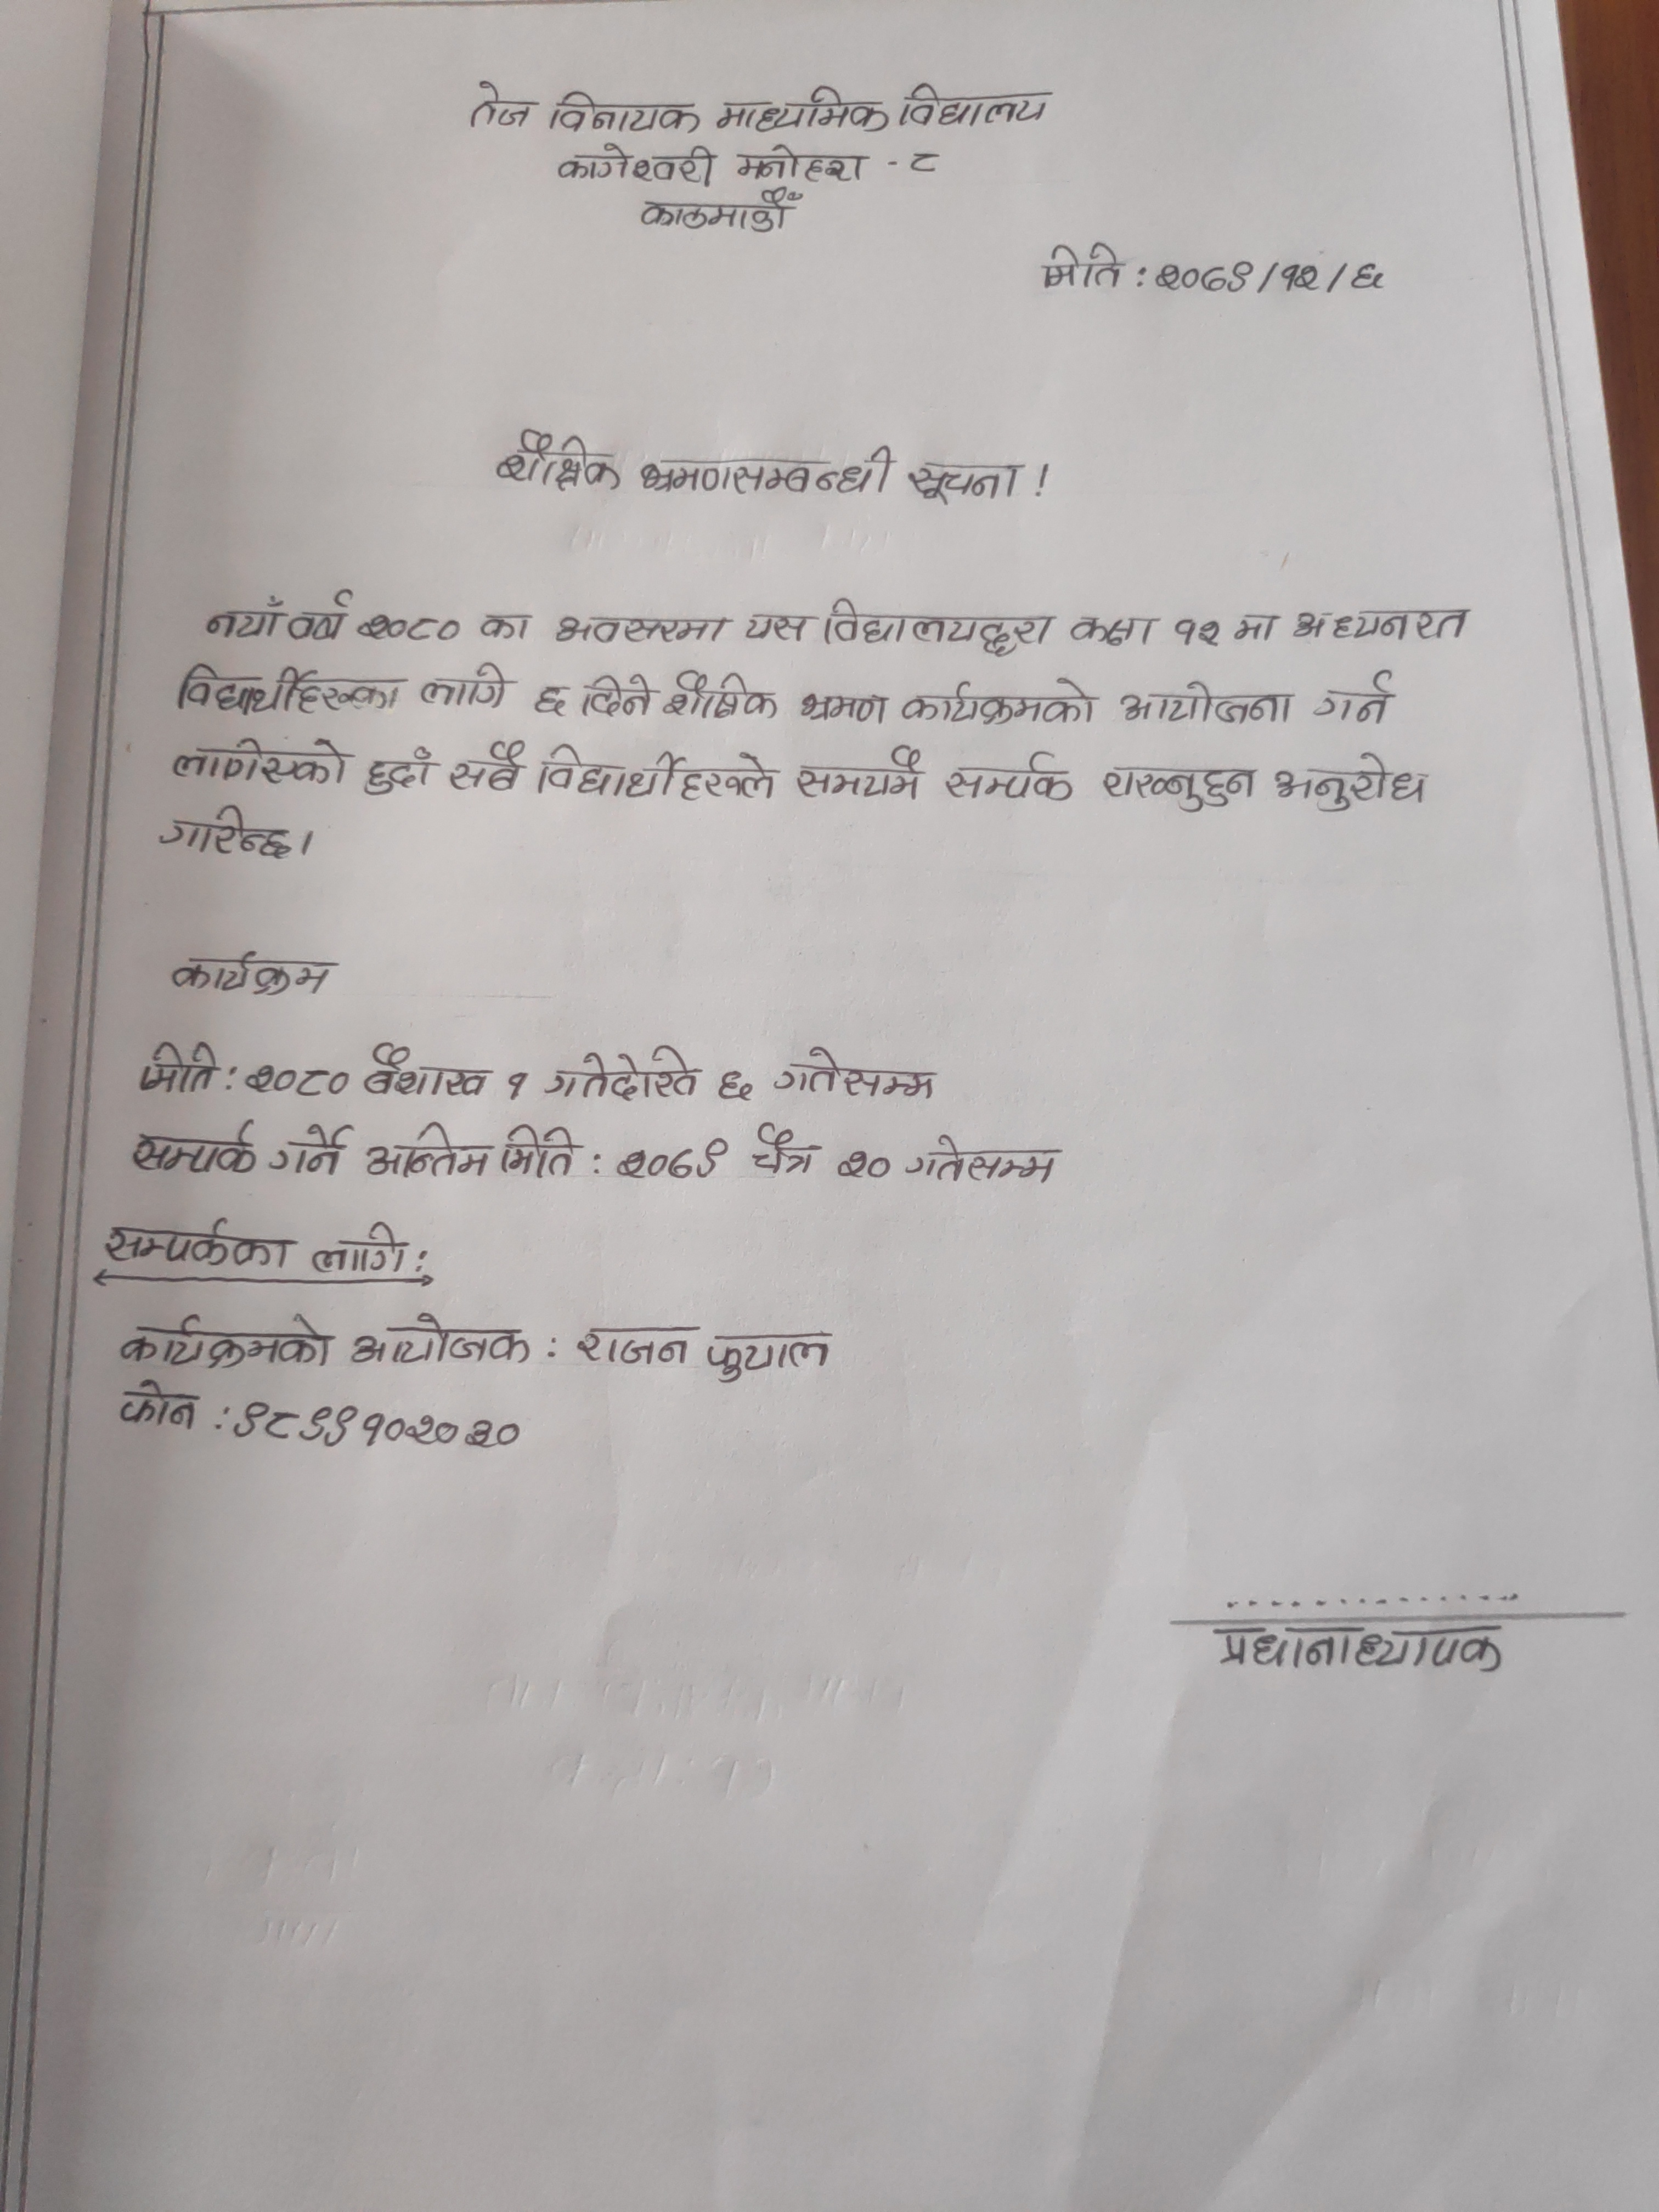text: (1202, 1622, 1509, 1679), (228, 1399, 525, 1458), (537, 740, 781, 810), (636, 441, 901, 502), (173, 658, 410, 719), (113, 1312, 342, 1374), (821, 597, 1056, 657), (96, 1214, 295, 1273), (349, 1308, 538, 1369), (1154, 254, 1391, 301), (1272, 751, 1431, 820), (769, 1042, 945, 1104), (711, 82, 894, 141), (493, 427, 627, 503), (540, 1043, 704, 1106), (171, 735, 354, 791), (896, 676, 1101, 725), (789, 738, 932, 808), (1096, 759, 1262, 817), (361, 1036, 497, 1104), (1291, 601, 1476, 650), (702, 1325, 836, 1392), (129, 1120, 265, 1184), (1119, 679, 1298, 728), (162, 949, 340, 998), (362, 1120, 493, 1186), (904, 1132, 1070, 1184), (556, 141, 725, 192), (549, 85, 704, 139), (894, 82, 1060, 131), (157, 803, 291, 862), (633, 188, 805, 233), (549, 608, 735, 650), (941, 749, 1075, 805), (662, 665, 782, 721), (734, 141, 875, 188), (572, 1324, 702, 1374), (904, 456, 1030, 505), (310, 1219, 416, 1277), (612, 1137, 728, 1190), (1314, 665, 1403, 728), (1035, 235, 1124, 296), (267, 1120, 354, 1181), (418, 660, 519, 712), (495, 1123, 580, 1184), (352, 606, 465, 650), (115, 1376, 206, 1430), (132, 1040, 220, 1096), (748, 1120, 823, 1184), (450, 738, 526, 799), (244, 1061, 352, 1103), (282, 587, 359, 644), (1065, 610, 1162, 651), (364, 745, 439, 799), (467, 78, 538, 134), (579, 671, 657, 721), (795, 690, 897, 726), (204, 596, 286, 641), (739, 610, 816, 650), (826, 1146, 894, 1186), (1223, 608, 1284, 646), (711, 1064, 760, 1109), (474, 610, 537, 644), (1168, 615, 1223, 653), (530, 681, 575, 723), (899, 138, 946, 178), (498, 1068, 538, 1109)
